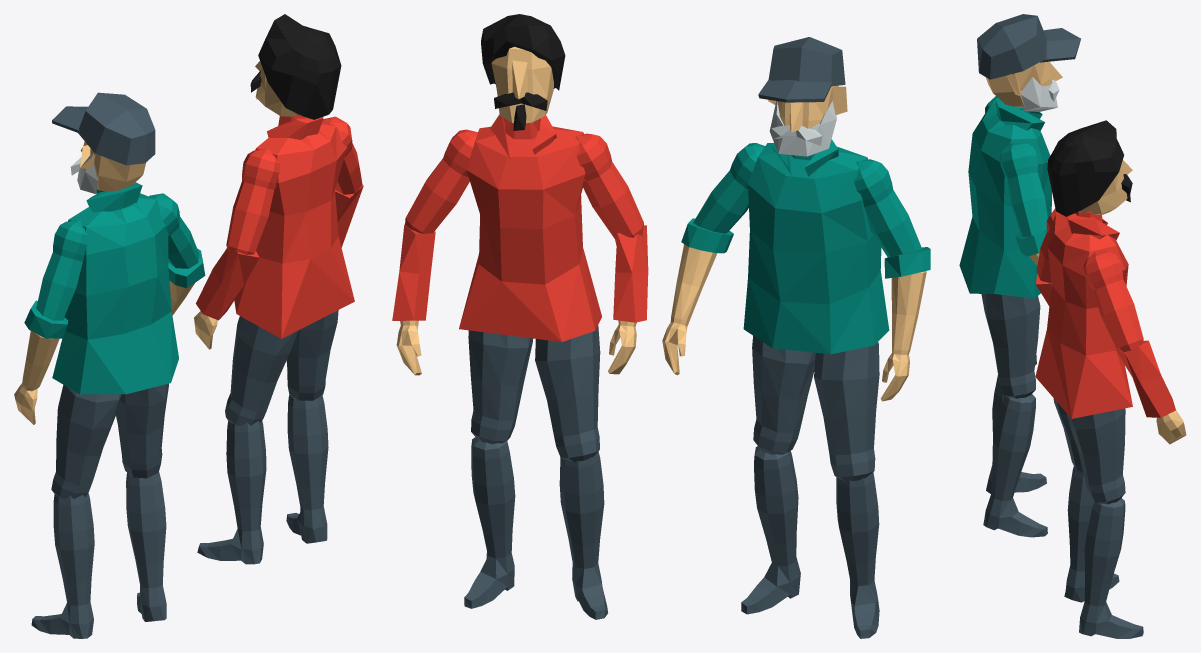
The model's file is VR Guys.glb.
3 views of the same model, side by side, from view 1: azimuth 30°, elevation 25°; view 2: azimuth 150°, elevation 25°; view 3: azimuth 270°, elevation 25° (orthographic). The views are drawn at different scales.
Parts seen in each view (by area): view 1: group997697249, group1794093376, group1578840458, group1466040742, group1580086226, group1131172432, group1471751933, group938122174, group1874662402, group1099573344, group513549844, group1650303170 (+8 smaller); view 2: group997697249, group1794093376, group1466040742, group1578840458, group1471751933, group1874662402, group1099573344, group938122174, group719248615, group1650303170, group1131172432, group1580086226 (+8 smaller); view 3: group1794093376, group997697249, group1466040742, group1578840458, group1099573344, group938122174, group1650303170, group719248615, group1611516149, group106158125, group1037886679, group1131172432 (+4 smaller).
Boxes of the visible parts, x1,y1,x2,y2 form: group997697249: (52, 189, 178, 394); group1794093376: (234, 115, 354, 338); group1578840458: (250, 14, 341, 119); group1466040742: (52, 92, 155, 193); group1580086226: (31, 493, 94, 638); group1131172432: (197, 421, 266, 564); group1471751933: (51, 385, 121, 498); group938122174: (286, 394, 328, 543); group1874662402: (225, 316, 298, 425); group1099573344: (126, 472, 166, 621); group513549844: (24, 220, 87, 338); group1650303170: (116, 383, 168, 478); group997697249: (743, 143, 889, 354); group1794093376: (459, 114, 601, 341); group1466040742: (758, 37, 847, 156); group1578840458: (481, 14, 565, 130); group1471751933: (814, 342, 879, 481); group1874662402: (535, 325, 600, 462); group1099573344: (741, 446, 800, 614); group938122174: (464, 437, 515, 608); group719248615: (468, 330, 532, 444); group1650303170: (752, 336, 815, 454); group1131172432: (559, 451, 607, 619); group1580086226: (836, 472, 879, 638); group1794093376: (1035, 211, 1132, 418); group997697249: (959, 102, 1051, 298); group1466040742: (977, 14, 1080, 111); group1578840458: (1047, 120, 1132, 216); group1099573344: (983, 394, 1047, 537); group938122174: (1079, 498, 1143, 638); group1650303170: (981, 294, 1040, 398); group719248615: (1066, 408, 1125, 504); group1611516149: (1000, 141, 1047, 256); group106158125: (1083, 251, 1143, 352); group1037886679: (1115, 340, 1186, 444); group1131172432: (1064, 466, 1119, 602).
Size of the model in its own units: 2.5 by 3.12 by 1.27.
